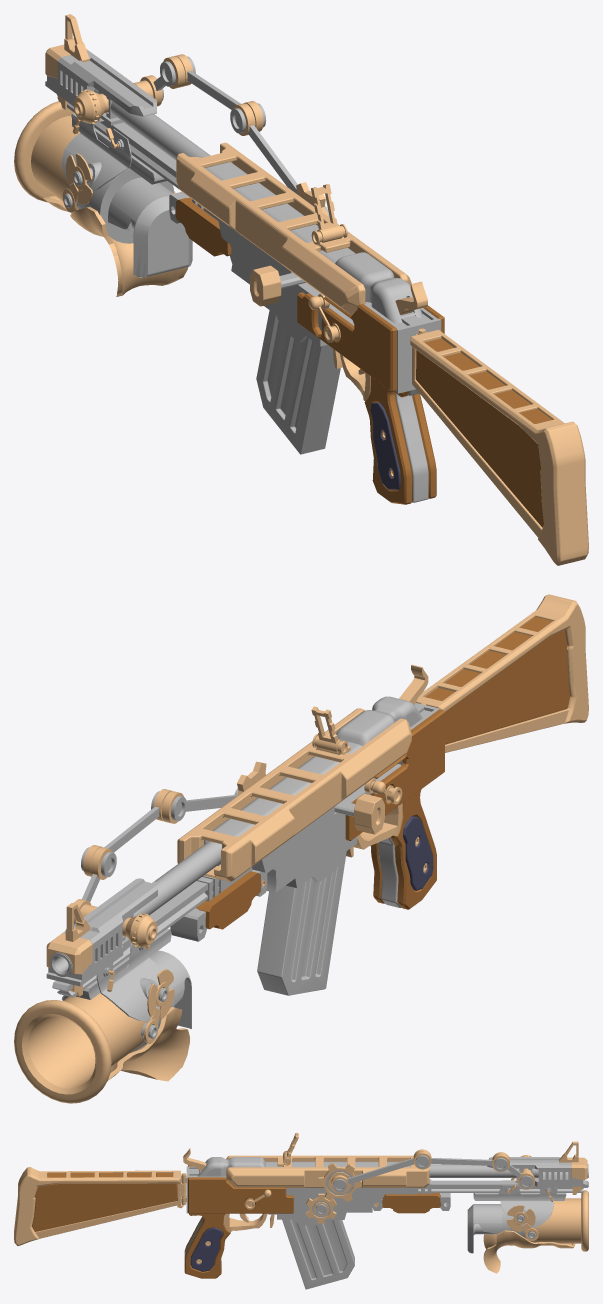
File: gun99.fbx
3 renders of one model, top to bottom at view 1: azimuth 30°, elevation 25°; view 2: azimuth 150°, elevation 25°; view 3: azimuth 270°, elevation 25°, orthographic. The views are drawn at different scales.
Visible parts, largest first — view 1: Cube.151, Cube.152, Cube.139, Cube.146, 02.podstvol.xvost.006, Cube.143, Cube.138, Cube.137, 00.podstvol.cup.005, Cube.141, Cube.140, 04.podstvol.rykojatka.005 (+14 smaller); view 2: Cube.151, 00.podstvol.cup.005, Cube.139, Cube.146, Cube.152, Cube.143, Cube.137, Cube.141, Cube.138, 04.podstvol.rykojatka.005, Cylinder.124, Cube.140 (+17 smaller); view 3: Cube.139, Cube.151, Cube.152, Cube.146, Cube.138, Cube.143, 00.podstvol.cup.005, Cube.137, Cube.141, Cube.140, 00.krepl.010, 01.podstvol.krepofcup.016 (+17 smaller).
Part boxes in pixels (x1,y1,x2,y2): Cube.151: [176, 142, 411, 314]; Cube.152: [410, 330, 588, 565]; Cube.139: [416, 338, 552, 527]; Cube.146: [256, 310, 340, 454]; 02.podstvol.xvost.006: [108, 177, 192, 277]; Cube.143: [218, 218, 441, 393]; Cube.138: [297, 292, 444, 391]; Cube.137: [205, 162, 422, 323]; 00.podstvol.cup.005: [14, 101, 80, 210]; Cube.141: [45, 50, 156, 125]; Cube.140: [364, 376, 436, 504]; 04.podstvol.rykojatka.005: [43, 191, 188, 296]; Cube.151: [177, 708, 411, 881]; 00.podstvol.cup.005: [14, 993, 147, 1103]; Cube.139: [425, 616, 570, 744]; Cube.146: [257, 851, 346, 995]; Cube.152: [416, 594, 588, 752]; Cube.143: [217, 703, 441, 892]; Cube.137: [204, 696, 422, 844]; Cube.141: [46, 878, 157, 986]; Cube.138: [345, 709, 444, 840]; 04.podstvol.rykojatka.005: [108, 1007, 189, 1081]; Cylinder.124: [49, 841, 221, 976]; Cube.140: [370, 789, 436, 909]; Cube.139: [32, 1173, 177, 1231]; Cube.151: [226, 1155, 429, 1187]; Cube.152: [14, 1167, 180, 1245]; Cube.146: [282, 1219, 354, 1289]; Cube.138: [188, 1165, 293, 1213]; Cube.143: [186, 1166, 387, 1225]; 00.podstvol.cup.005: [530, 1190, 588, 1251]; Cube.137: [197, 1157, 410, 1176]; Cube.141: [487, 1157, 584, 1186]; Cube.140: [184, 1213, 230, 1278]; 00.krepl.010: [418, 1180, 588, 1192]; 01.podstvol.krepofcup.016: [498, 1180, 557, 1228].
Bounding box in the file's own units: 0.1181 × 0.2729 × 0.9369.
